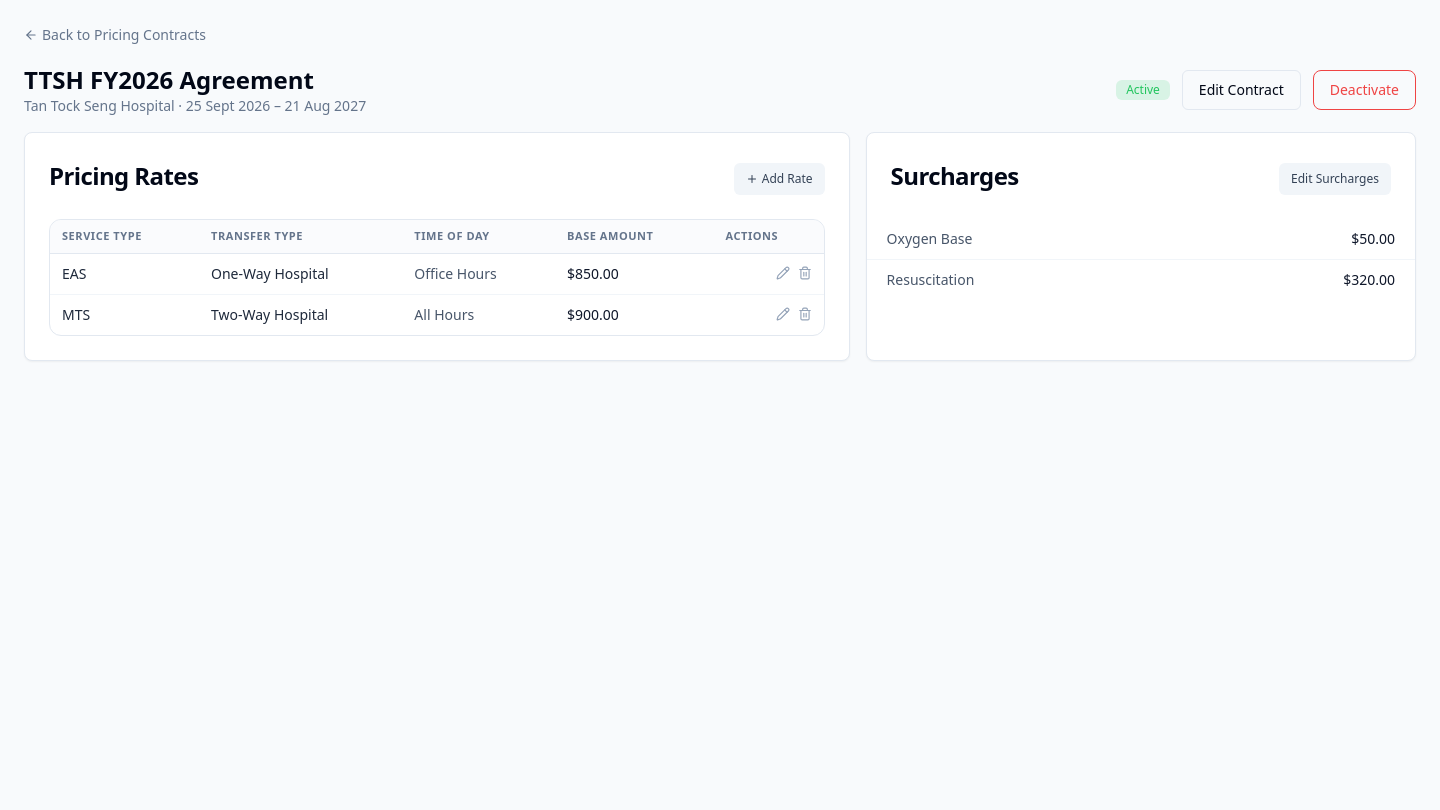
Test case: ContractDetailPage - rate management › surfaces RATE_IN_USE when the backend refuses to delete a billed rate
Expected: the heading "TTSH FY2026 Agreement" is shown, [24,63,314,96]
Step 1. Click the 7th button → x=805, y=272, box [798,266,812,280]
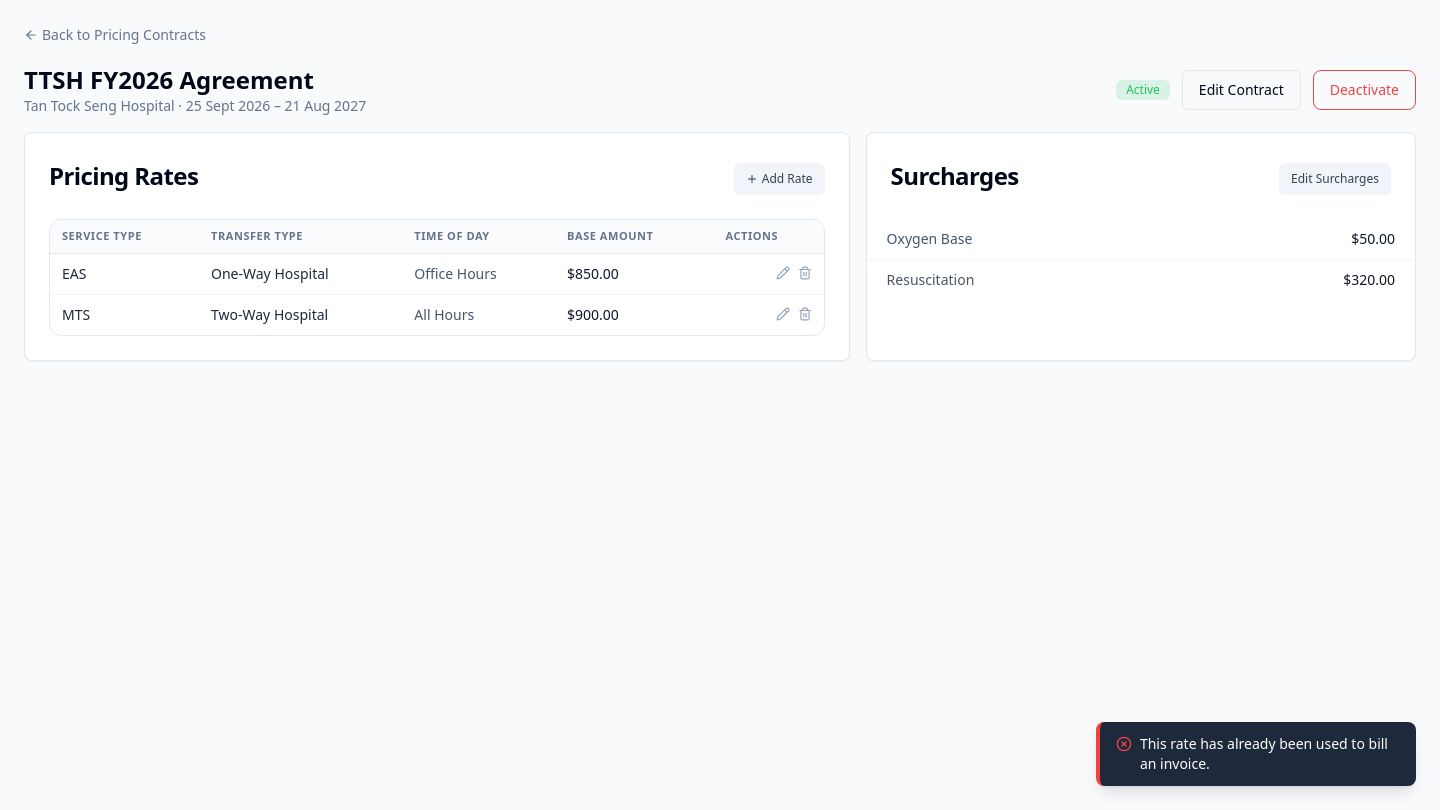
Expected: the text "This rate has already been used to bill an invoice." is shown, [1140,734,1400,774]
